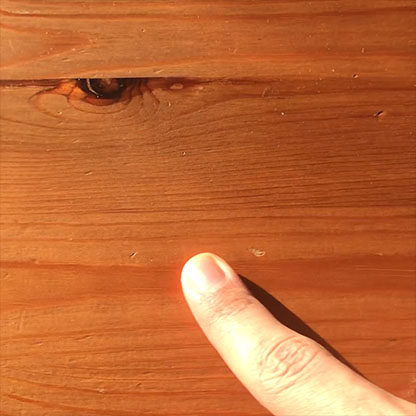fingertip: (166, 244, 248, 308)
